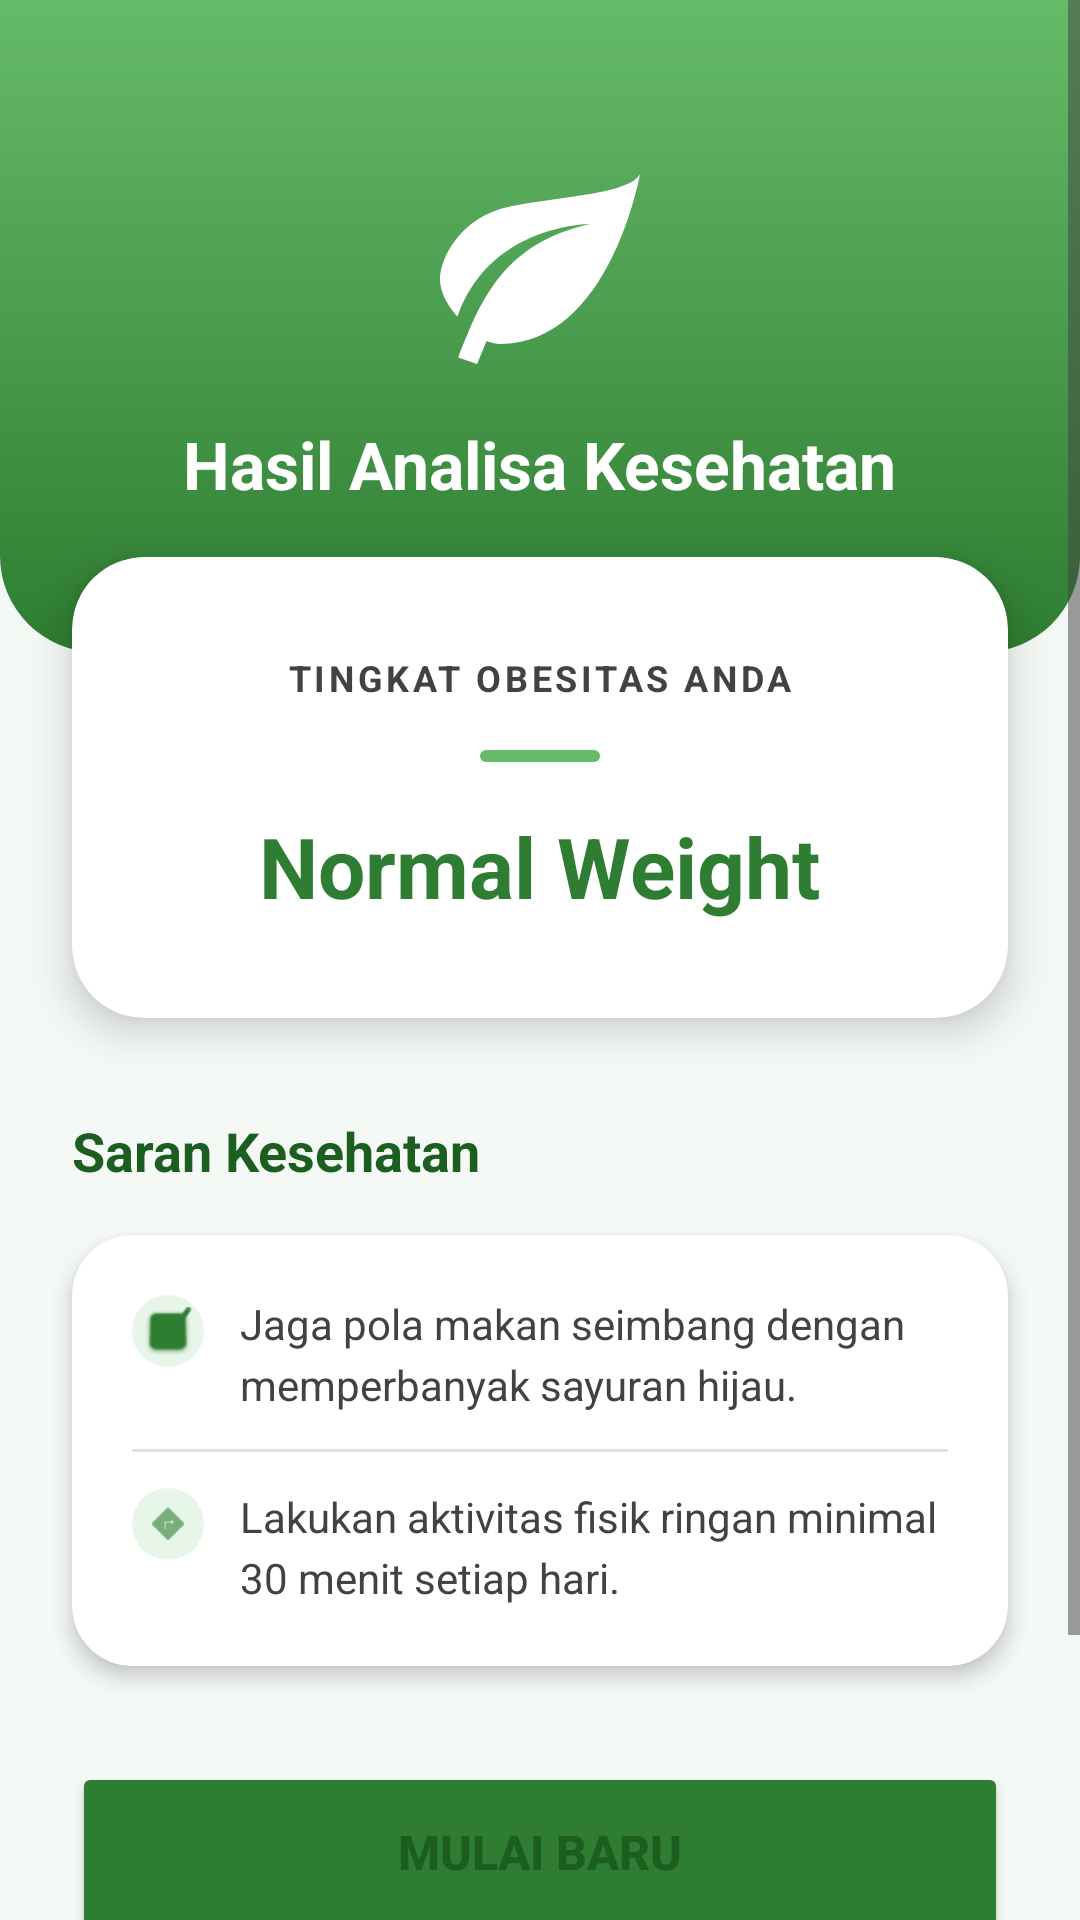

Where icons sit on this 1080*1920 app screen, as [x1=x1, y1=y1, x2=x2, y2=y2]:
directions: [x1=151, y1=1507, x2=185, y2=1541]
